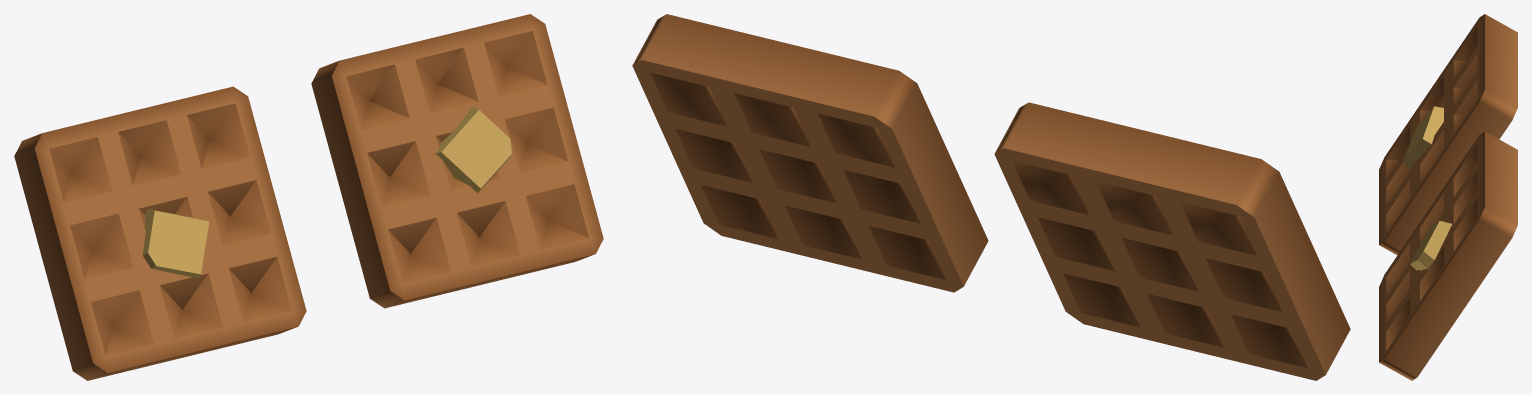
The model's file is hat_premium_WaffleWings.glb.
3 renders of one model, left to right at view 1: azimuth 30°, elevation 25°; view 2: azimuth 150°, elevation 25°; view 3: azimuth 270°, elevation 25°, orthographic. The views are drawn at different scales.
Visible parts, largest first — view 1: hat_premium_WaffleWings; view 2: hat_premium_WaffleWings; view 3: hat_premium_WaffleWings.
Part boxes in pixels (box(x1,y1,x2,y2)): hat_premium_WaffleWings: box(14, 14, 603, 380); hat_premium_WaffleWings: box(632, 14, 1350, 380); hat_premium_WaffleWings: box(1379, 14, 1517, 380).
Size of the model in its own units: 0.7702 by 0.3099 by 0.224.
